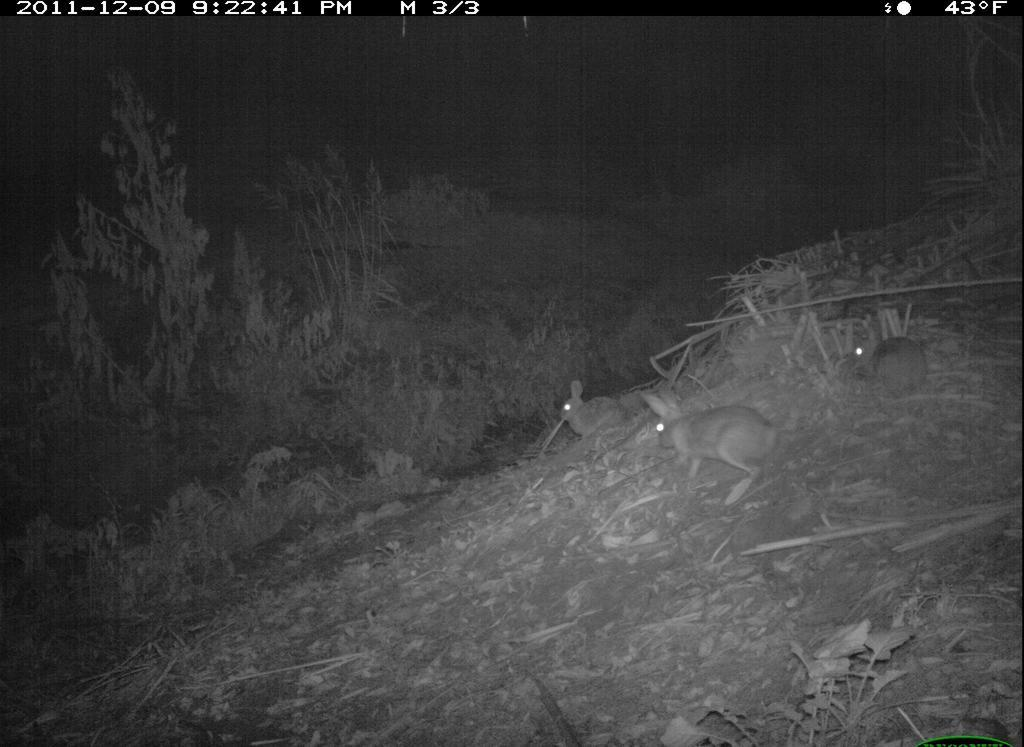rabbit: (639, 381, 788, 492), (847, 315, 936, 400), (557, 379, 629, 441)
